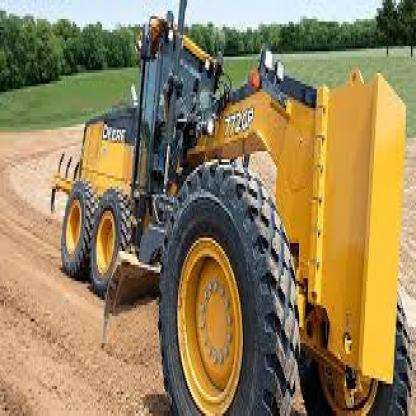bull_dozer/loader/grader: (43, 8, 415, 413)
